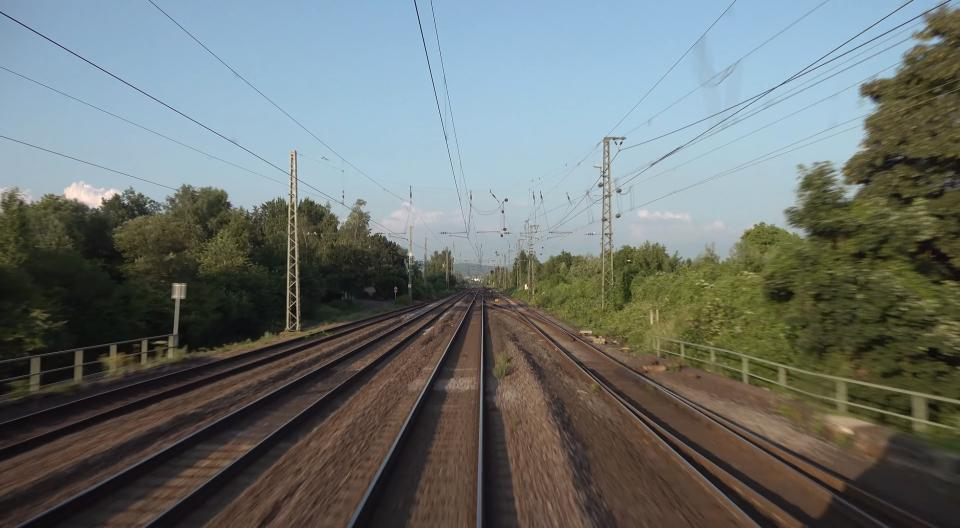Plant: (493, 350, 514, 379), (776, 403, 804, 423), (808, 412, 827, 435), (833, 430, 854, 448), (666, 364, 682, 371), (592, 384, 600, 391)
